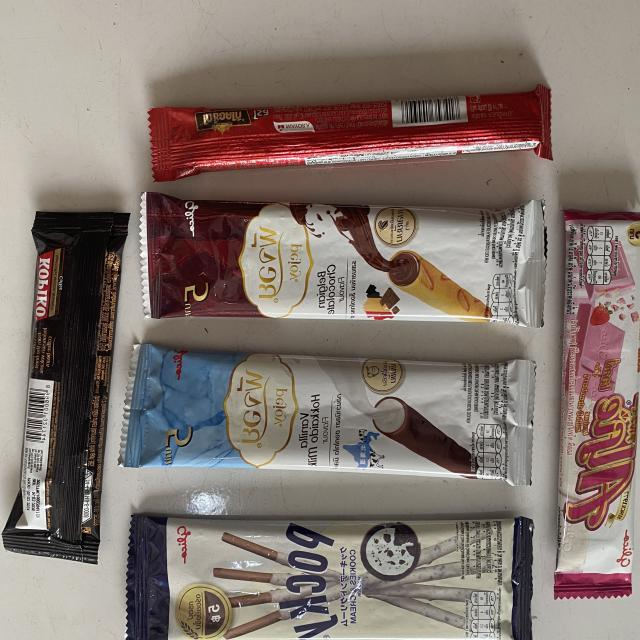plastik: (123, 343, 535, 485), (141, 193, 546, 326), (127, 515, 533, 640), (2, 211, 129, 564), (149, 84, 553, 182), (554, 210, 640, 599)
